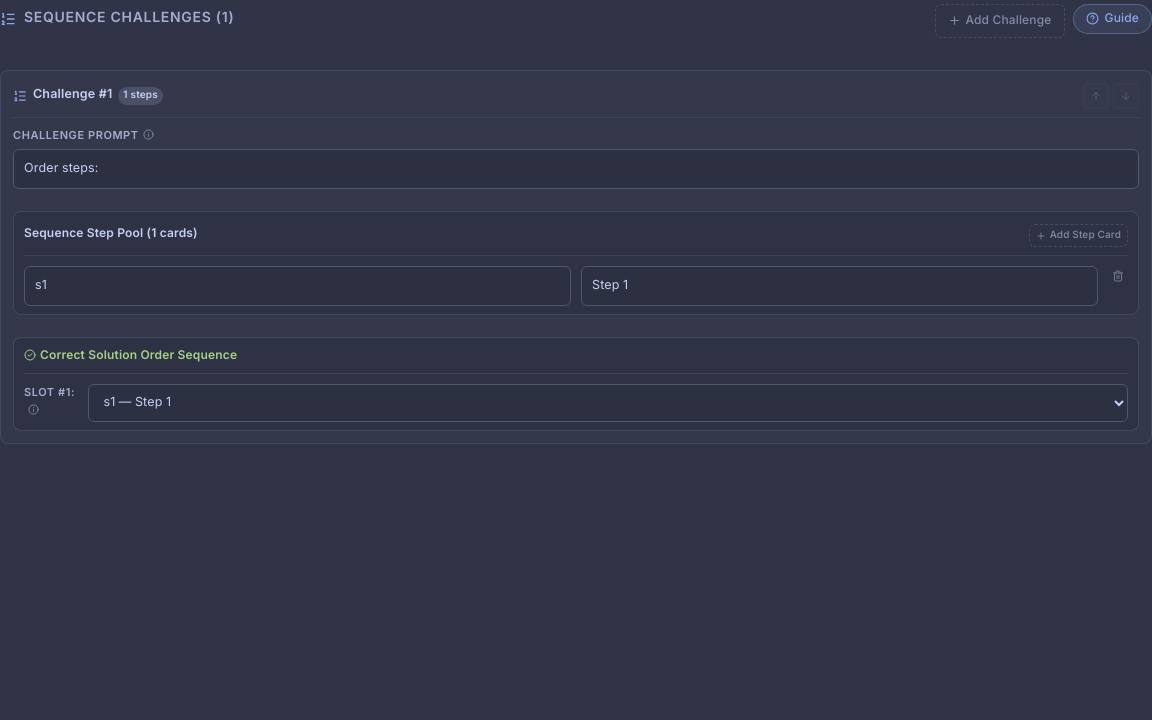
Test: VisualFormEditor › renders reflection sequence form editor for reflection-sequence type
Expected: the element with test id "sequence-challenge-card-0" is shown, [0,70,1151,444]
Expected: the button with test id "reflection-sequence-add-challenge" is shown, [935,4,1064,38]
// Test guide modal
Click the button with test id "reflection-sequence-editor-help-btn" at coordinates (1112, 19), box [1072,4,1151,34]
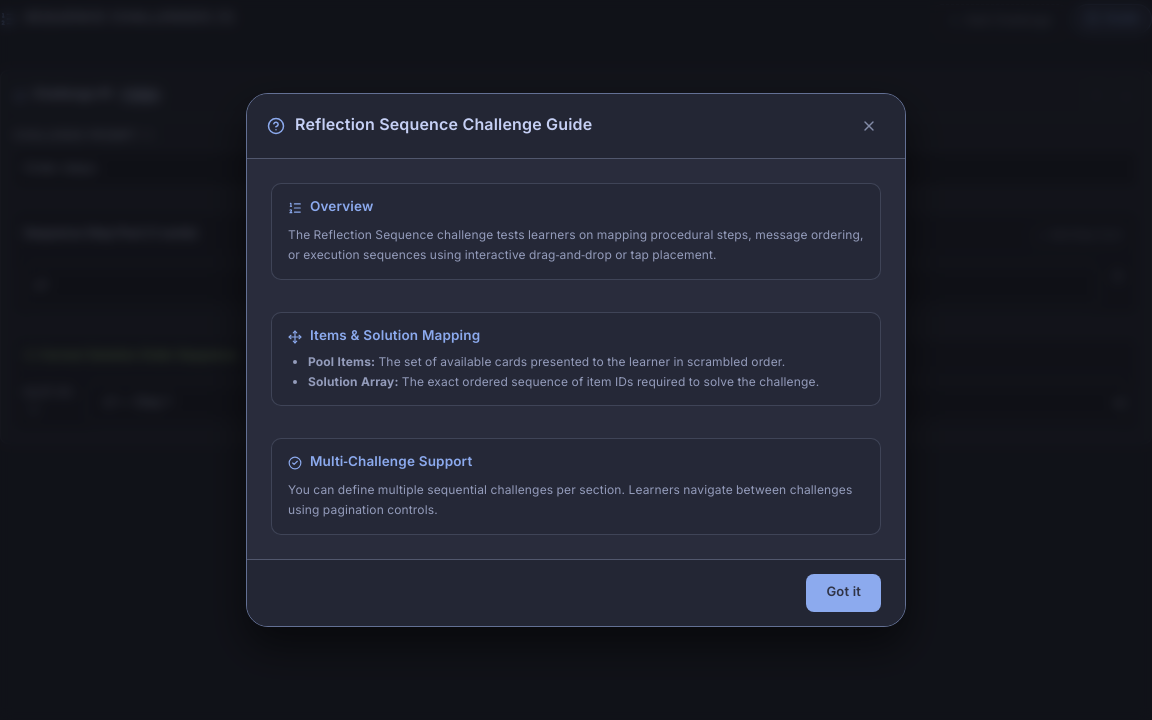
Expected: the element with test id "reflection-sequence-help-modal" is shown
